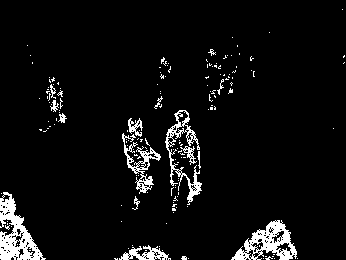person: (164, 108, 204, 211), (120, 114, 162, 211), (45, 74, 67, 125)
